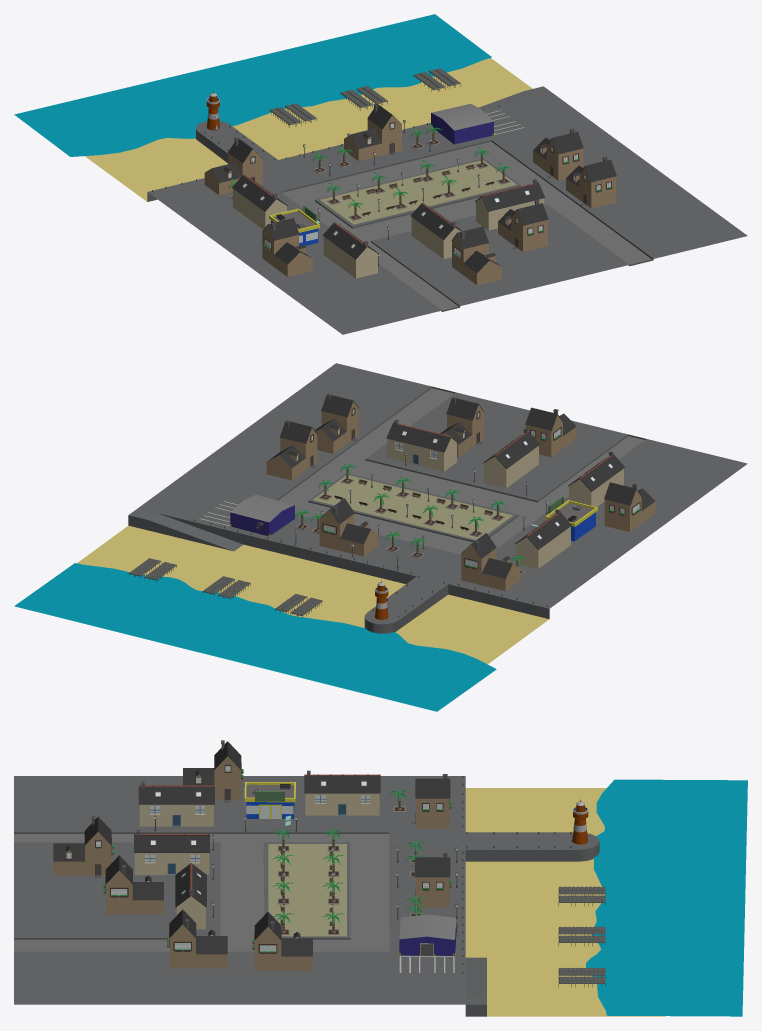
Rendered from World.fbx.
3 views of the same model, one above another, from view 1: azimuth 30°, elevation 25°; view 2: azimuth 150°, elevation 25°; view 3: azimuth 270°, elevation 25° (orthographic). The views are drawn at different scales.
Visible parts, largest first — view 1: Lampadaire18; view 2: Lampadaire18; view 3: Lampadaire18.
Boxes of the visible parts, x1,y1,x2,y2 form: Lampadaire18: [14, 14, 747, 334]; Lampadaire18: [14, 363, 747, 711]; Lampadaire18: [14, 740, 747, 1016].
Size of the model in its own units: 3134 by 360 by 4102.
